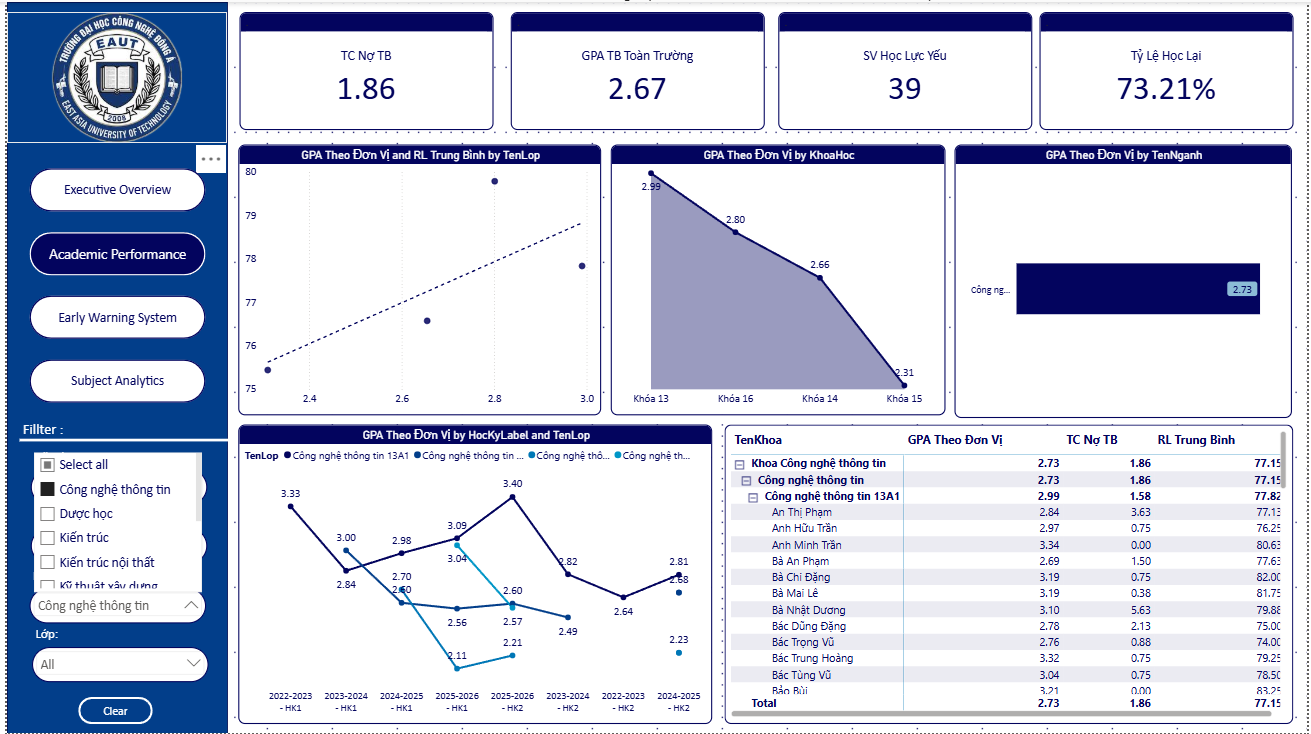

What the dashboard file says about the page in this screenshot:
{"tool":"powerbi","page":{"name":"Academic Performance","canvas":[1920,1080],"ordinal":1},"visuals":[{"type":"shape","box":[0,0,326,1082],"z":0},{"type":"image","box":[0,15.3,325.1,194.2],"z":1000},{"type":"pageNavigator","box":[34,246,260,346],"z":2000},{"type":"slicer","fields":{"Values":["Dim_HocKy.NamHoc"]},"box":[35.8,691.7,260.9,52.2],"z":3000,"group":"g4"},{"type":"slicer","fields":{"Values":["Dim_Khoa.TenKhoa"]},"box":[35.8,777,260.9,52.2],"z":3000,"group":"g3"},{"type":"slicer","fields":{"Values":["Dim_Nganh.TenNganh"]},"box":[34,865.5,260.9,52.2],"z":3000,"group":"g2"},{"type":"group","id":"g1","title":"Group 2","box":[36,918,260,90],"z":3000},{"type":"slicer","fields":{"Values":["Dim_Lop.TenLop"]},"box":[36,953.5,260.9,52.2],"z":3000,"group":"g1"},{"type":"group","id":"g2","title":"Group 2","box":[34,830,260,88],"z":4000},{"type":"group","id":"g3","title":"Group 2","box":[35.8,741.5,260.2,88.4],"z":5000},{"type":"group","id":"g4","title":"Group 2","box":[35.8,656.2,260.9,87.7],"z":6000},{"type":"lineChart","fields":{"Category":["Dim_SinhVien.KhoaHoc"],"Y":["_Mesuare.GPA Theo Đơn Vị"]},"box":[892,210,494,400],"z":9000},{"type":"lineChart","fields":{"Category":["Dim_HocKy.HocKyLabel"],"Y":["_Mesuare.GPA Theo Đơn Vị"],"Series":["Dim_Lop.TenLop"]},"box":[342,624,700,442],"z":10000},{"type":"clusteredBarChart","fields":{"Y":["_Mesuare.GPA Theo Đơn Vị"],"Category":["Dim_Nganh.TenNganh"]},"box":[1400,210,498,404],"z":11000},{"type":"textbox","box":[18,612,110,36],"z":13000},{"type":"textbox","box":[35.8,656.2,110.6,35.5],"z":13003,"group":"g4"},{"type":"textbox","box":[35.8,741.5,110.6,35.5],"z":13003,"group":"g3"},{"type":"textbox","box":[34,830,110.6,35.5],"z":13003,"group":"g2"},{"type":"textbox","box":[36,918,110.6,35.5],"z":13003,"group":"g1"},{"type":"shape","box":[18,624,308,46],"z":14000},{"type":"actionButton","title":"Clear","box":[106,1026,110,40],"z":15000},{"type":"scatterChart","fields":{"X":["_Mesuare.GPA Theo Đơn Vị"],"Y":["_Mesuare.RL Trung Bình"],"Category":["Dim_Lop.TenLop"]},"box":[342,210,536,400],"z":17000},{"type":"pivotTable","fields":{"Rows":["Dim_Khoa.TenKhoa","Dim_Nganh.TenNganh","Dim_Lop.TenLop","Dim_SinhVien.HoTen"],"Values":["_Mesuare.GPA Theo Đơn Vị","_Mesuare.TC Nợ TB","_Mesuare.RL Trung Bình"]},"box":[1060,624,840,442],"z":18000},{"type":"cardVisual","title":".","fields":{"Data":["_Mesuare.TC Nợ TB"]},"box":[342.5,15.3,375.3,174.5],"z":18001},{"type":"cardVisual","title":".","fields":{"Data":["_Mesuare.GPA TB Toàn Trường"]},"box":[744,15.3,375.3,174.5],"z":18002},{"type":"cardVisual","title":".","fields":{"Data":["_Mesuare.Tỷ Lệ Học Lại"]},"box":[1525.1,15.3,375.3,174.5],"z":18003},{"type":"cardVisual","title":".","fields":{"Data":["_Mesuare.SV Học Lực Yếu"]},"box":[1138.9,15.3,375.3,174.5],"z":18004}]}

Visuals, with their boxes in screenshot pixels (x1, y1, x2, y2), scaled from the page's 1920x1080 canvas onto the 1311x734 screenshot:
shape: 0 0 223 733
image: 0 10 222 142
pageNavigator: 23 167 201 402
slicer - Dim_HocKy.NamHoc: 24 470 203 506
slicer - Dim_Khoa.TenKhoa: 24 528 203 564
slicer - Dim_Nganh.TenNganh: 23 588 201 624
"Group 2" group: 25 624 202 685
slicer - Dim_Lop.TenLop: 25 648 203 684
"Group 2" group: 23 564 201 624
"Group 2" group: 24 504 202 564
"Group 2" group: 24 446 203 506
lineChart - Dim_SinhVien.KhoaHoc x _Mesuare.GPA Theo Đơn Vị: 609 143 946 415
lineChart - Dim_HocKy.HocKyLabel x _Mesuare.GPA Theo Đơn Vị: 234 424 711 724
clusteredBarChart - _Mesuare.GPA Theo Đơn Vị x Dim_Nganh.TenNganh: 956 143 1296 417
textbox: 12 416 87 440
textbox: 24 446 100 470
textbox: 24 504 100 528
textbox: 23 564 99 588
textbox: 25 624 100 648
shape: 12 424 223 455
"Clear" actionButton: 72 697 147 724
scatterChart - _Mesuare.GPA Theo Đơn Vị x _Mesuare.RL Trung Bình: 234 143 600 415
pivotTable - Dim_Khoa.TenKhoa x Dim_Nganh.TenNganh: 724 424 1297 724
"." cardVisual: 234 10 490 129
"." cardVisual: 508 10 764 129
"." cardVisual: 1041 10 1298 129
"." cardVisual: 778 10 1034 129
